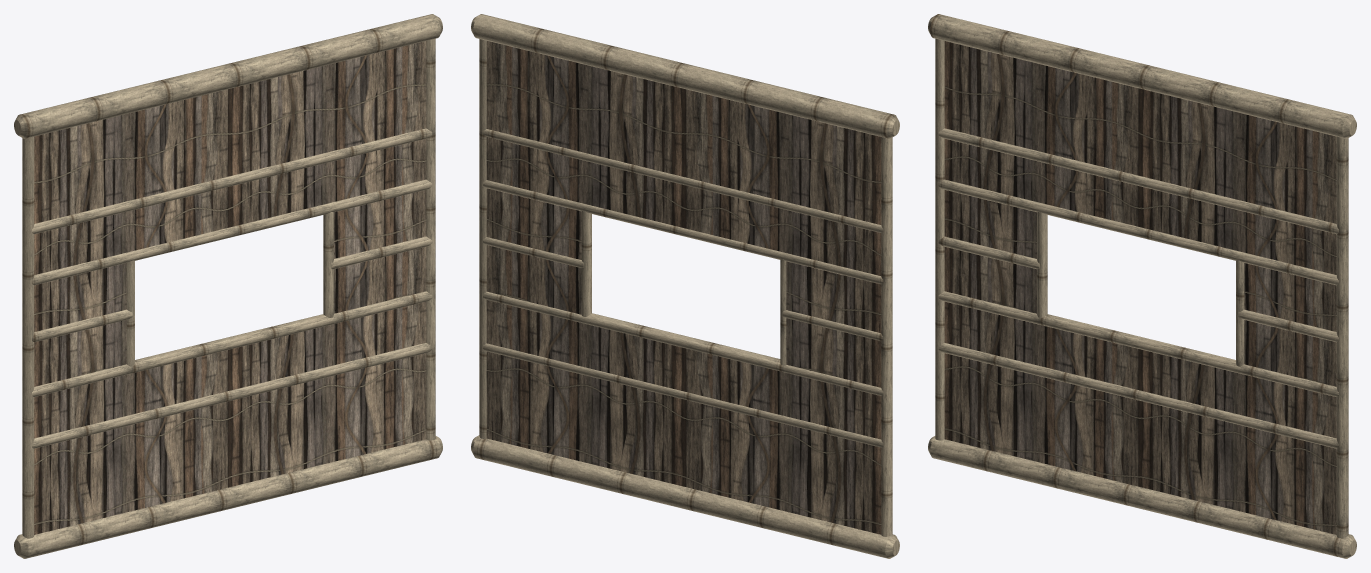
Rendered from window_wall.glb.
The picture shows the model from 3 angles, left to right: view 1: azimuth 30°, elevation 25°; view 2: azimuth 150°, elevation 25°; view 3: azimuth 330°, elevation 25°; orthographic projection.
Visible parts, largest first — view 1: window_wall; view 2: window_wall; view 3: window_wall.
Part boxes in pixels (x1=…): window_wall: x1=14, y1=14, x2=442, y2=558; window_wall: x1=471, y1=14, x2=899, y2=558; window_wall: x1=928, y1=14, x2=1356, y2=558.
Bounding box in the file's own units: 5.42 × 5.44 × 0.2758.
2 materials, 2 textured.
